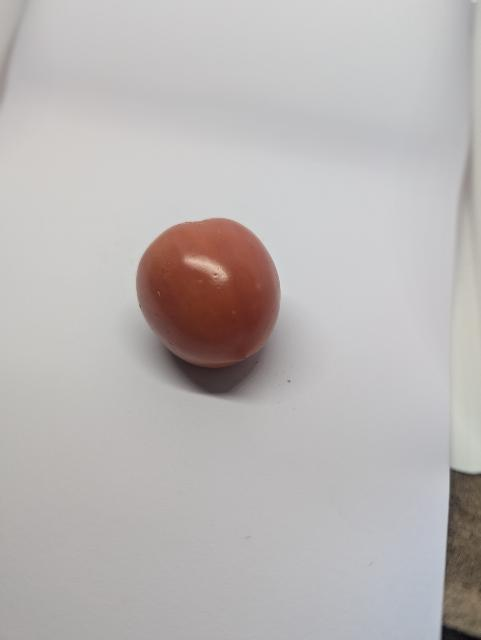red: (123, 212, 309, 386)
